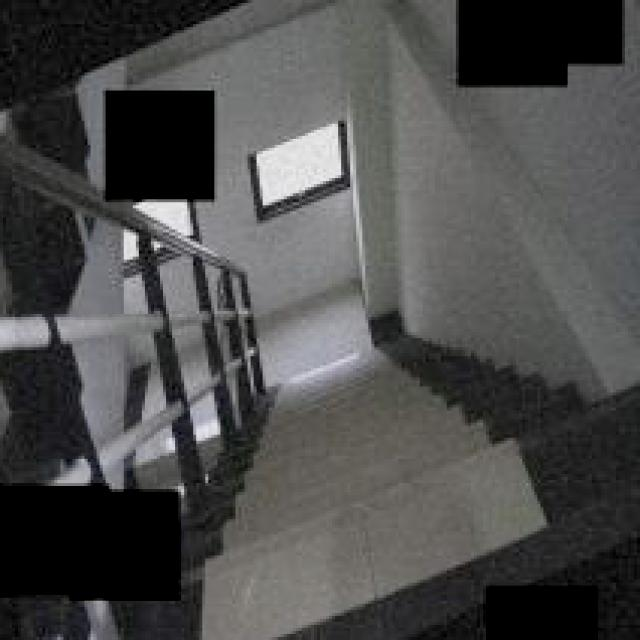downstair: (248, 402, 456, 640)
